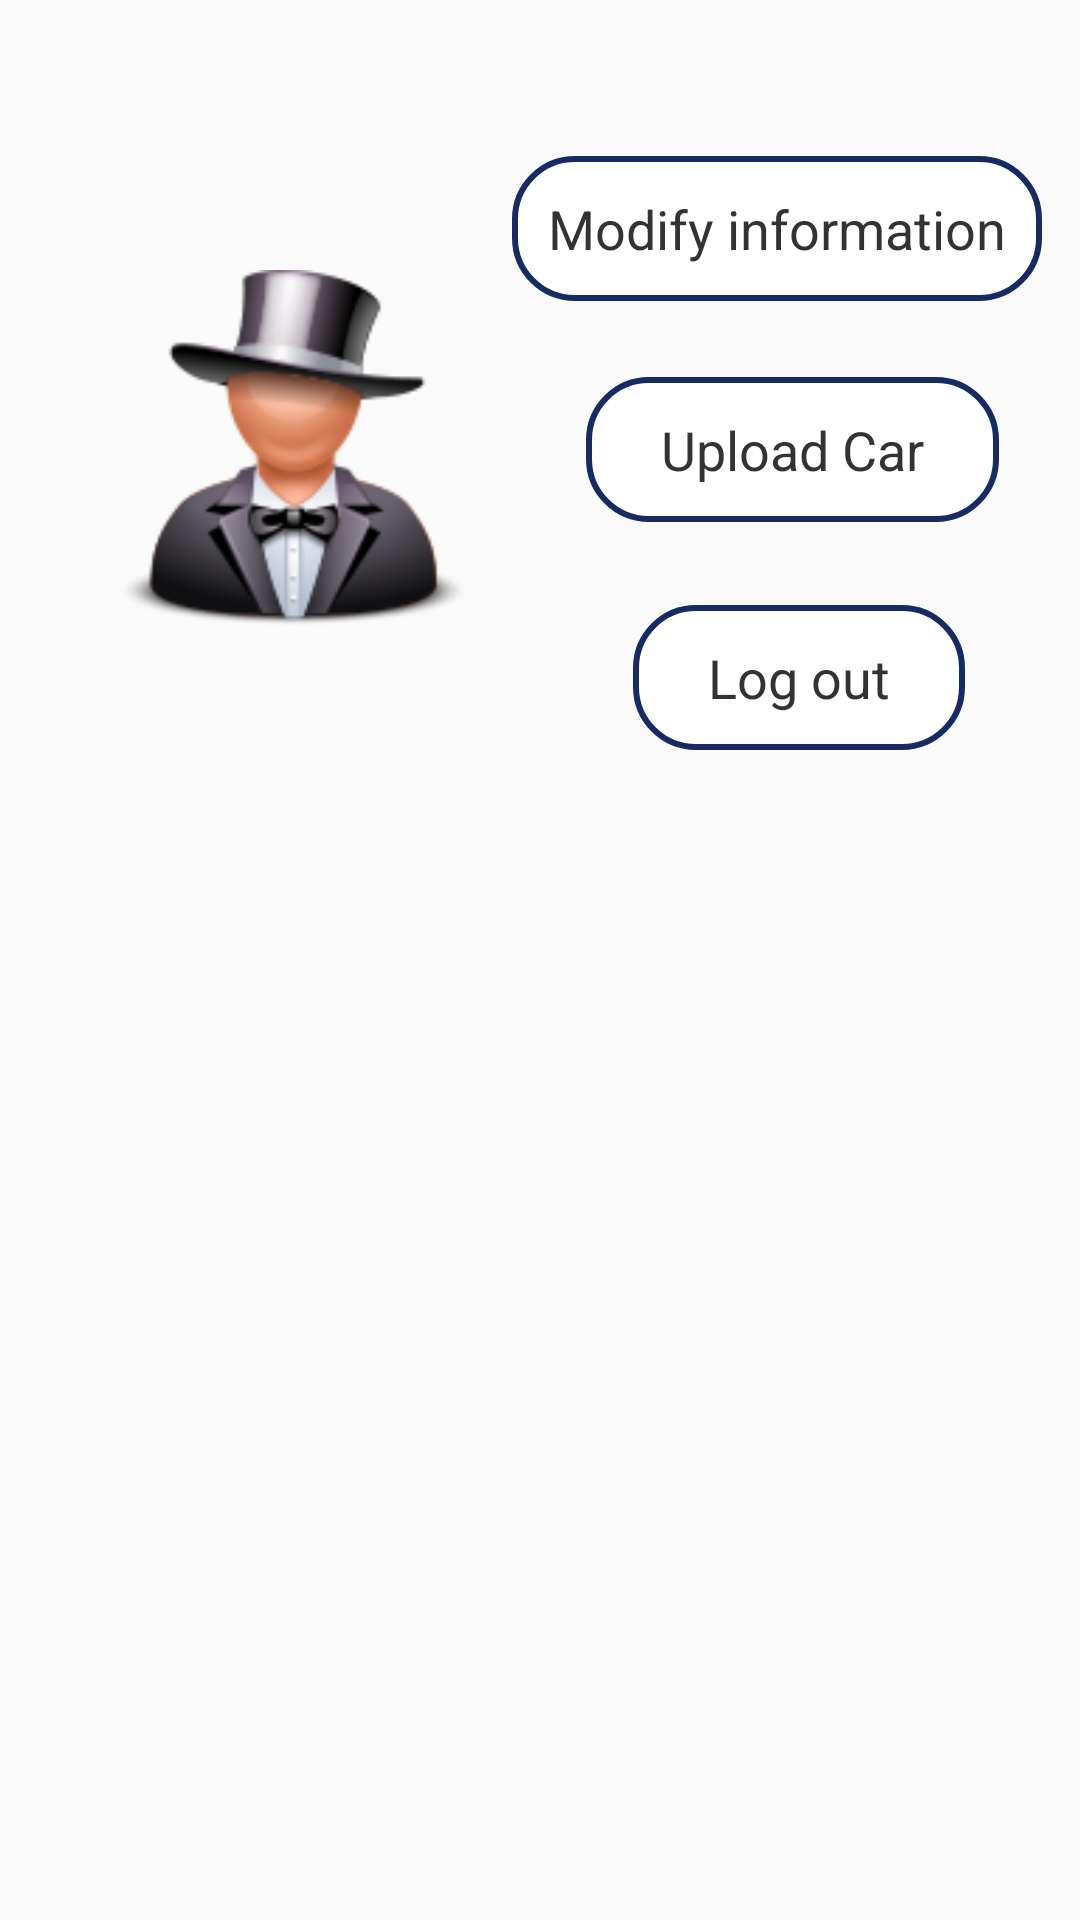

Icon bounding boxes for this 1080px×1920px phone screenshot, format (x1, y1, x2, y2):
head: (133, 270, 455, 622)
